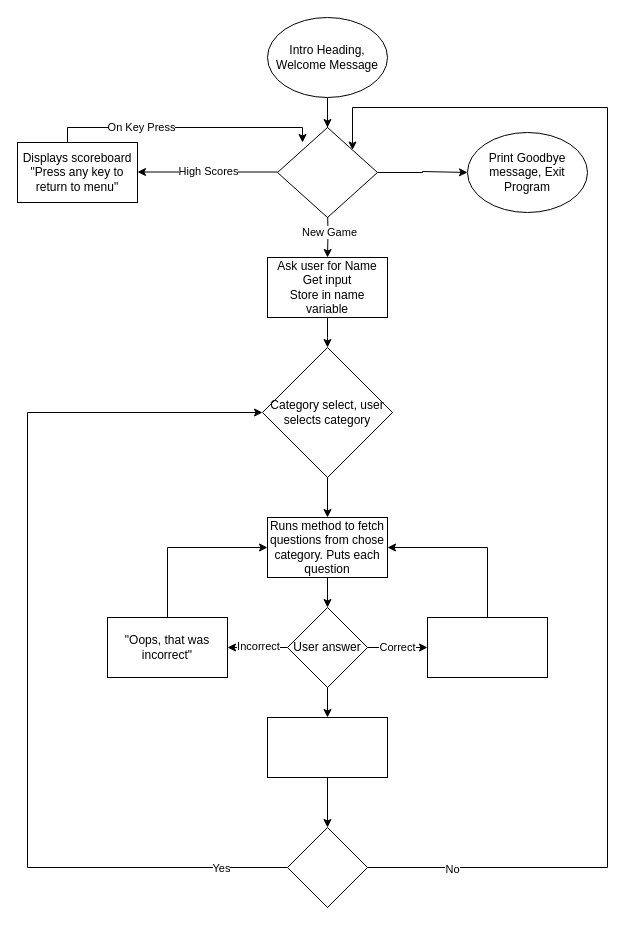
Some shapes in this 633 by 925 pixel diagram are drawn without their labels. Here are the shapes that lost their labels. From the top down, the centre of each, then its label:
the point at 327,172: Start menu: -New Game -High Scores -Exit
the point at 487,647: "You got it! Adds +1 to score
the point at 327,747: Finishes loop when all questions answered. Displays score.
the point at 327,867: Pick another category?
